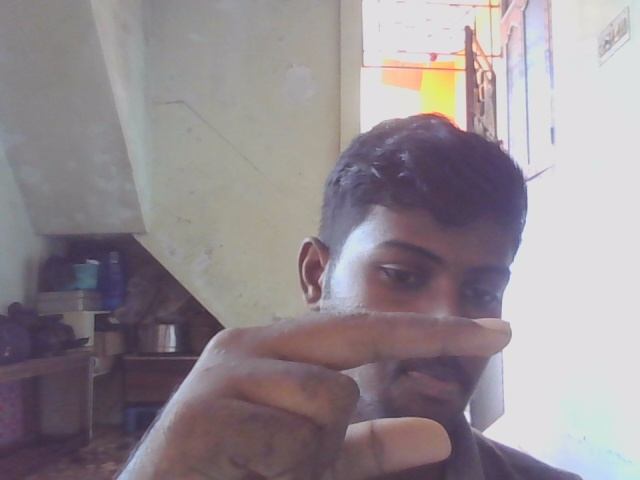Thanks: (106, 305, 523, 480)
